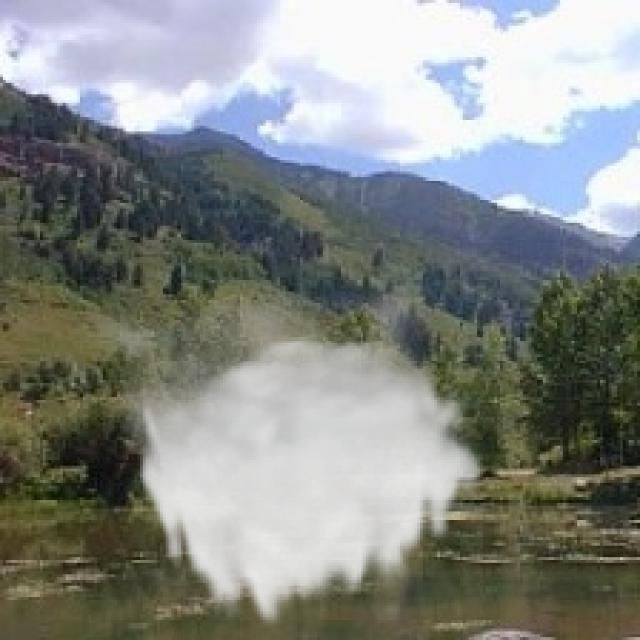Smoke: (63, 262, 486, 634)
